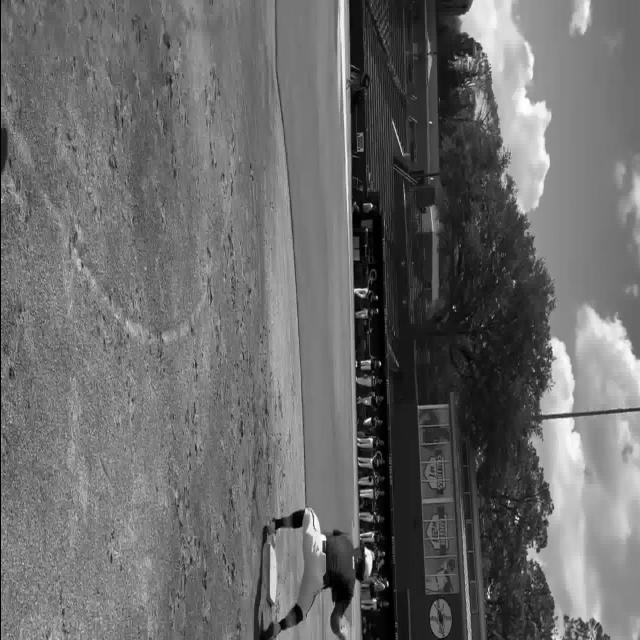base: (262, 542, 276, 607)
baseball_glove: (334, 620, 346, 640)
shoe: (259, 622, 279, 640), (262, 518, 275, 536)
